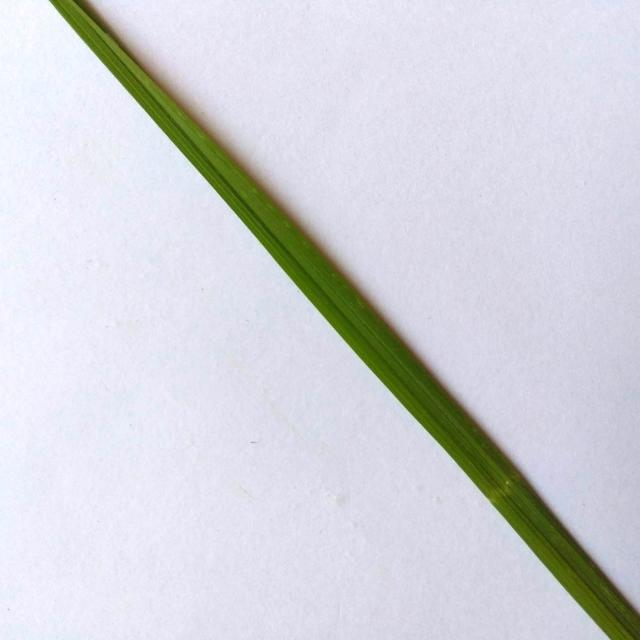Rice_Healthy: (50, 0, 640, 640)
